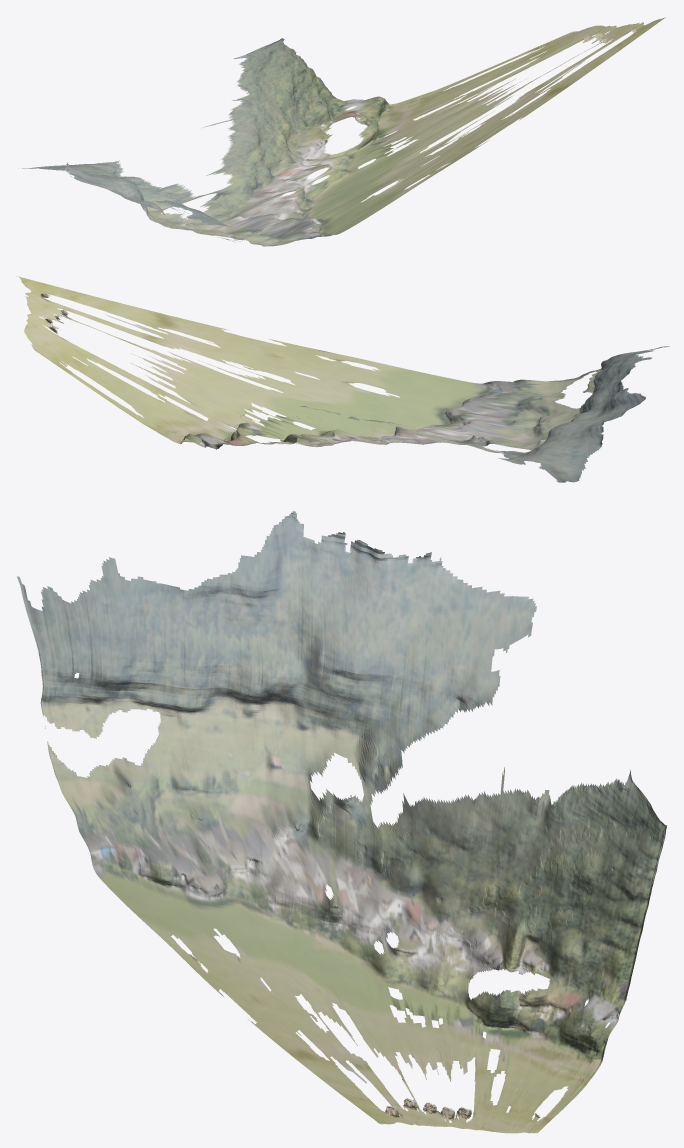
Rendered from map_clean.glb.
The picture shows the model from 3 angles, top to bottom: view 1: azimuth 30°, elevation 25°; view 2: azimuth 150°, elevation 25°; view 3: azimuth 270°, elevation 25°; orthographic projection. The views are drawn at different scales.
Visible parts, largest first — view 1: geometry_0; view 2: geometry_0; view 3: geometry_0.
Part boxes in pixels (x1,y1,x2,y2): geometry_0: (18, 17, 665, 246); geometry_0: (17, 276, 669, 482); geometry_0: (17, 511, 666, 1133).
Bounding box in the file's own units: 33.34 × 4.93 × 15.41.
